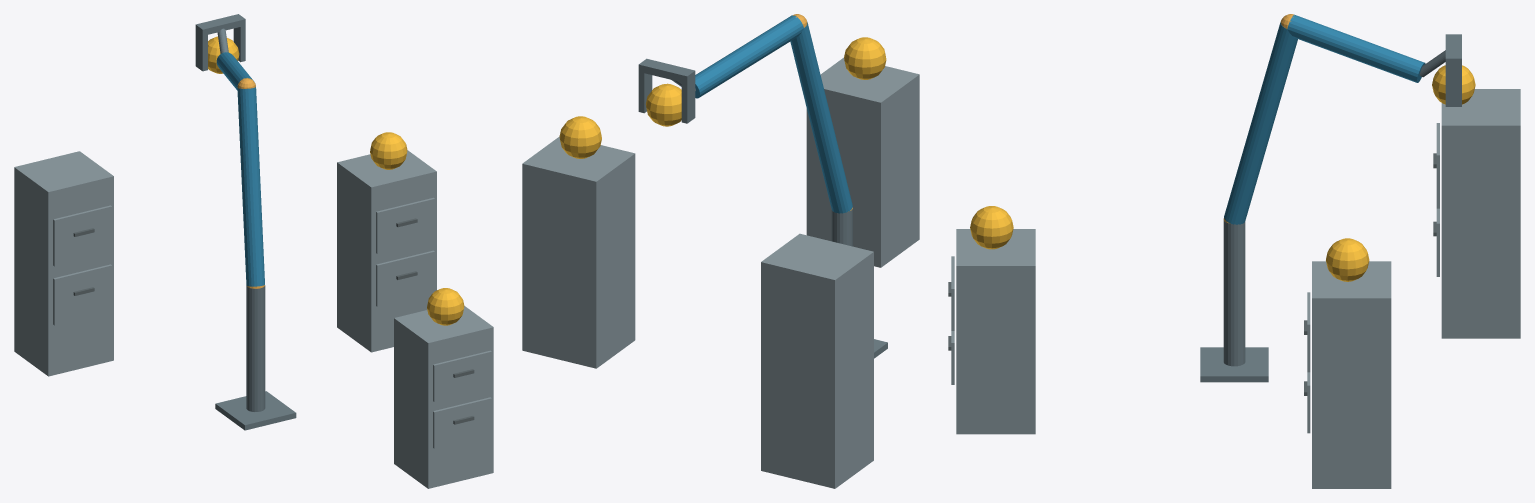
3 renders of one model, left to right at view 1: azimuth 30°, elevation 25°; view 2: azimuth 150°, elevation 25°; view 3: azimuth 270°, elevation 25°, orthographic. The views are drawn at different scales.
Parts seen in each view (by area): view 1: cabinet_3 body, cabinet_1 body, cabinet_2 body, moving link 1, cabinet_3 drawer front, cabinet_3 drawer front.001, cabinet_2 drawer front, cabinet_2 drawer front.001, fixed post, cabinet_1 drawer front, cabinet_1 drawer front.001, pedestal (+5 smaller); view 2: cabinet_3 body, cabinet_2 body, cabinet_1 body, moving link 1, moving link 2, released ball_1, released ball_2, ball ball_3, gripper bridge, fixed post, gripper finger -1, gripper finger 1; view 3: cabinet_3 body, cabinet_2 body, cabinet_1 body, moving link 1, fixed post, moving link 2, pedestal, released ball_1, released ball_2, ball ball_3, gripper finger 1.
Part boxes in pixels (left/top/right/bottom): cabinet_3 body: left=14, top=151, right=113, bottom=376; cabinet_1 body: left=394, top=306, right=493, bottom=488; cabinet_2 body: left=337, top=150, right=436, bottom=352; moving link 1: left=237, top=87, right=264, bottom=286; cabinet_3 drawer front: left=53, top=264, right=112, bottom=325; cabinet_3 drawer front.001: left=53, top=205, right=112, bottom=266; cabinet_2 drawer front: left=376, top=250, right=434, bottom=306; cabinet_2 drawer front.001: left=376, top=197, right=434, bottom=253; fixed post: left=246, top=285, right=265, bottom=411; cabinet_1 drawer front: left=433, top=397, right=491, bottom=448; cabinet_1 drawer front.001: left=433, top=350, right=491, bottom=401; pedestal: left=215, top=391, right=296, bottom=430; cabinet_3 body: left=761, top=233, right=873, bottom=488; cabinet_2 body: left=522, top=136, right=635, bottom=368; cabinet_1 body: left=806, top=57, right=919, bottom=267; moving link 1: left=790, top=21, right=852, bottom=213; moving link 2: left=695, top=15, right=803, bottom=98; released ball_1: left=844, top=37, right=886, bottom=79; released ball_2: left=559, top=116, right=601, bottom=158; ball ball_3: left=645, top=83, right=681, bottom=126; gripper bridge: left=638, top=58, right=695, bottom=83; fixed post: left=831, top=209, right=852, bottom=246; gripper finger -1: left=681, top=78, right=695, bottom=123; gripper finger 1: left=638, top=72, right=652, bottom=113; cabinet_3 body: left=1441, top=89, right=1520, bottom=338; cabinet_2 body: left=1312, top=261, right=1391, bottom=488; cabinet_1 body: left=956, top=229, right=1035, bottom=434; moving link 1: left=1224, top=22, right=1297, bottom=224; fixed post: left=1223, top=220, right=1245, bottom=366; moving link 2: left=1287, top=14, right=1425, bottom=82; pedestal: left=1200, top=347, right=1268, bottom=382; released ball_1: left=970, top=206, right=1013, bottom=249; released ball_2: left=1326, top=238, right=1369, bottom=281; ball ball_3: left=1432, top=65, right=1475, bottom=104; gripper finger 1: left=1445, top=66, right=1461, bottom=106.
Size of the model in its own units: 1.62 by 1.46 by 2.1.
